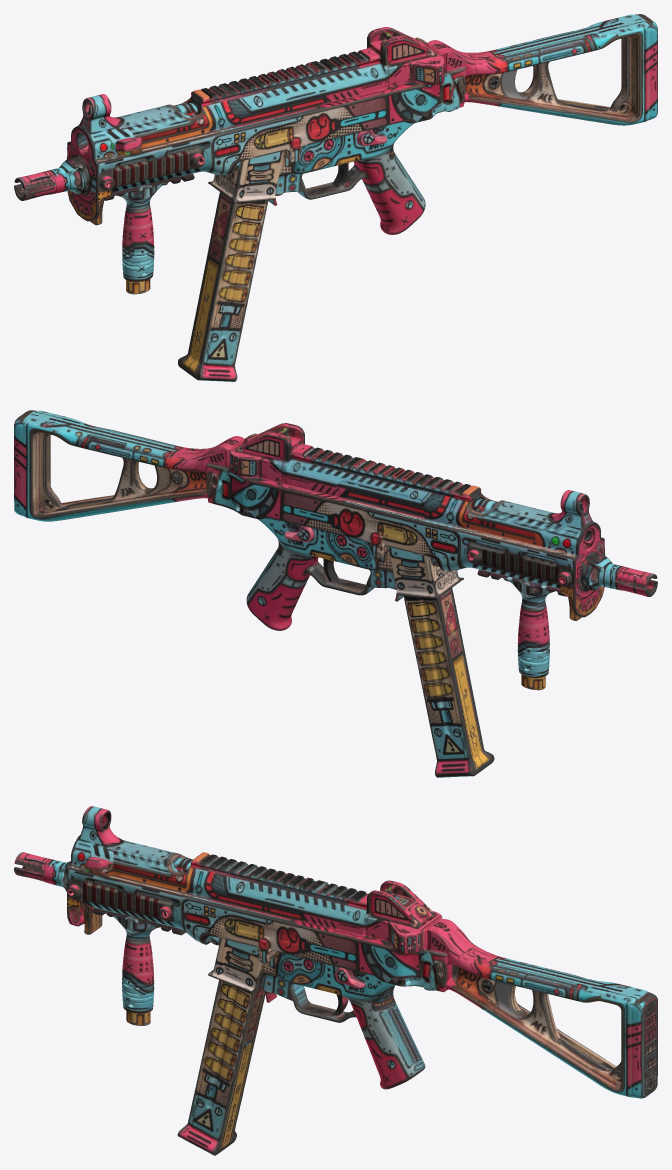
The model's file is Meshy_AI_UMP_1012143537_texture.glb.
3 views of the same model, one above another, from view 1: azimuth 30°, elevation 25°; view 2: azimuth 150°, elevation 25°; view 3: azimuth 330°, elevation 25° (orthographic).
Bounding box in the file's own units: 1.9 × 0.8888 × 0.2052.
Materials: 1 (1 with a texture image).
